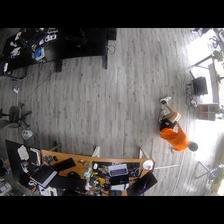fall: (158, 95, 198, 153)
